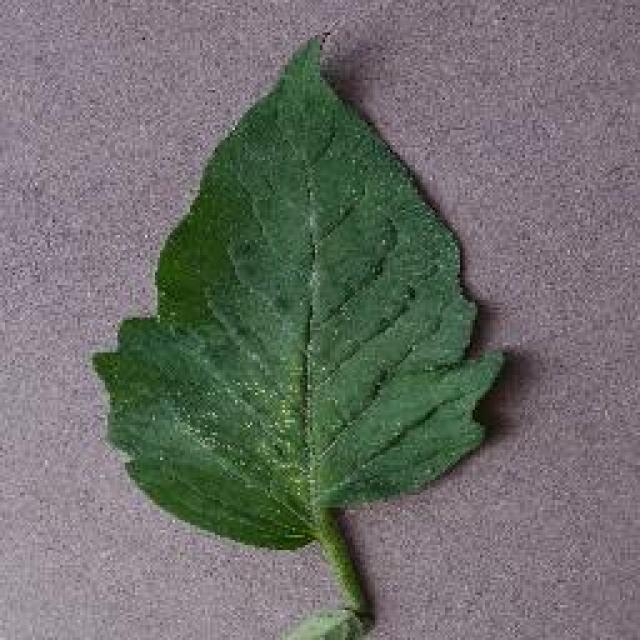Tomato mosaic virus leaf: (92, 31, 512, 556)
